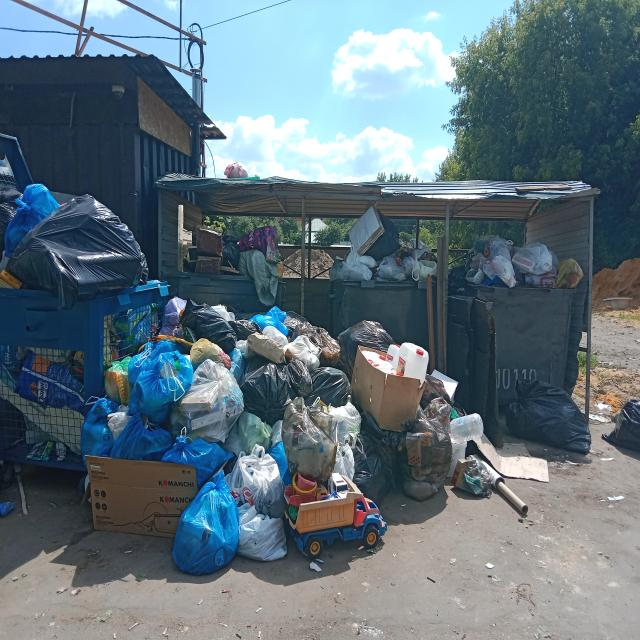trash: (76, 293, 542, 585), (0, 168, 153, 306), (324, 206, 441, 284), (504, 374, 596, 457), (460, 232, 586, 287), (186, 224, 288, 281), (605, 387, 640, 463)
